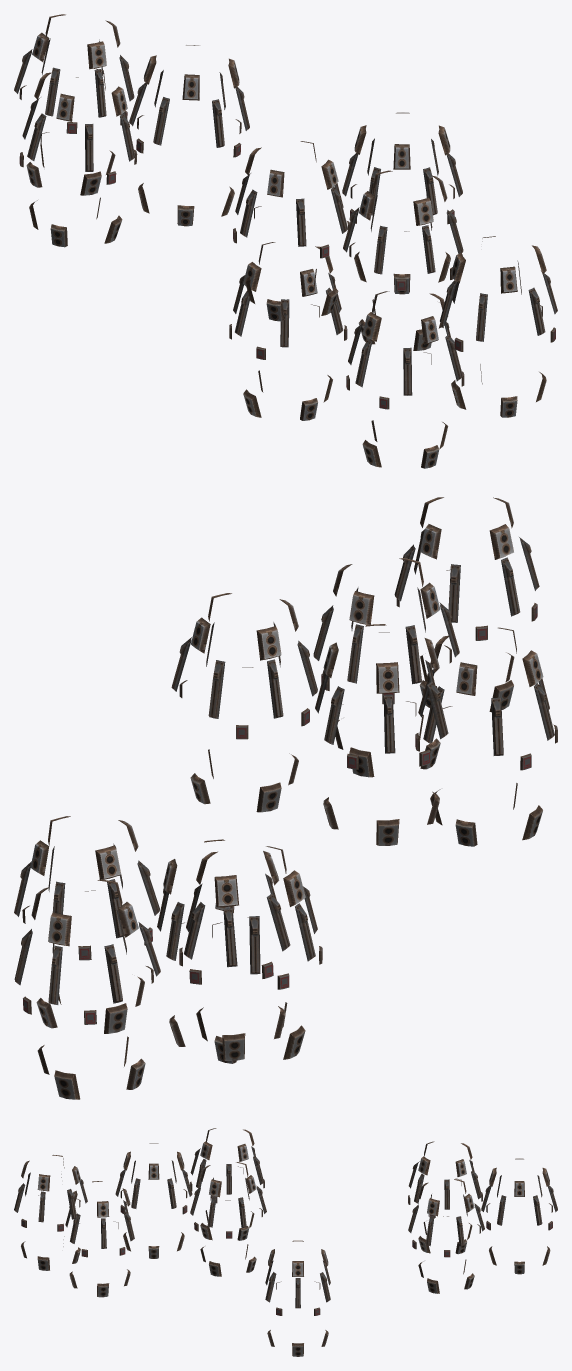
Rendered from prop_static_yao_container_01_08.glb.
3 views of the same model, one above another, from view 1: azimuth 30°, elevation 25°; view 2: azimuth 150°, elevation 25°; view 3: azimuth 270°, elevation 25° (orthographic). The views are drawn at different scales.
Visible parts, largest first — view 1: yao_container_01_08_LOD0; view 2: yao_container_01_08_LOD0; view 3: yao_container_01_08_LOD0.
Boxes of the visible parts, left/top/right/bottom form: yao_container_01_08_LOD0: left=14, top=14, right=557, bottom=468; yao_container_01_08_LOD0: left=14, top=497, right=557, bottom=1099; yao_container_01_08_LOD0: left=14, top=1128, right=557, bottom=1356.
Size of what is drawn, in the model's own units: 5.12 by 5.79 by 14.79.
1 material, 1 textured.
